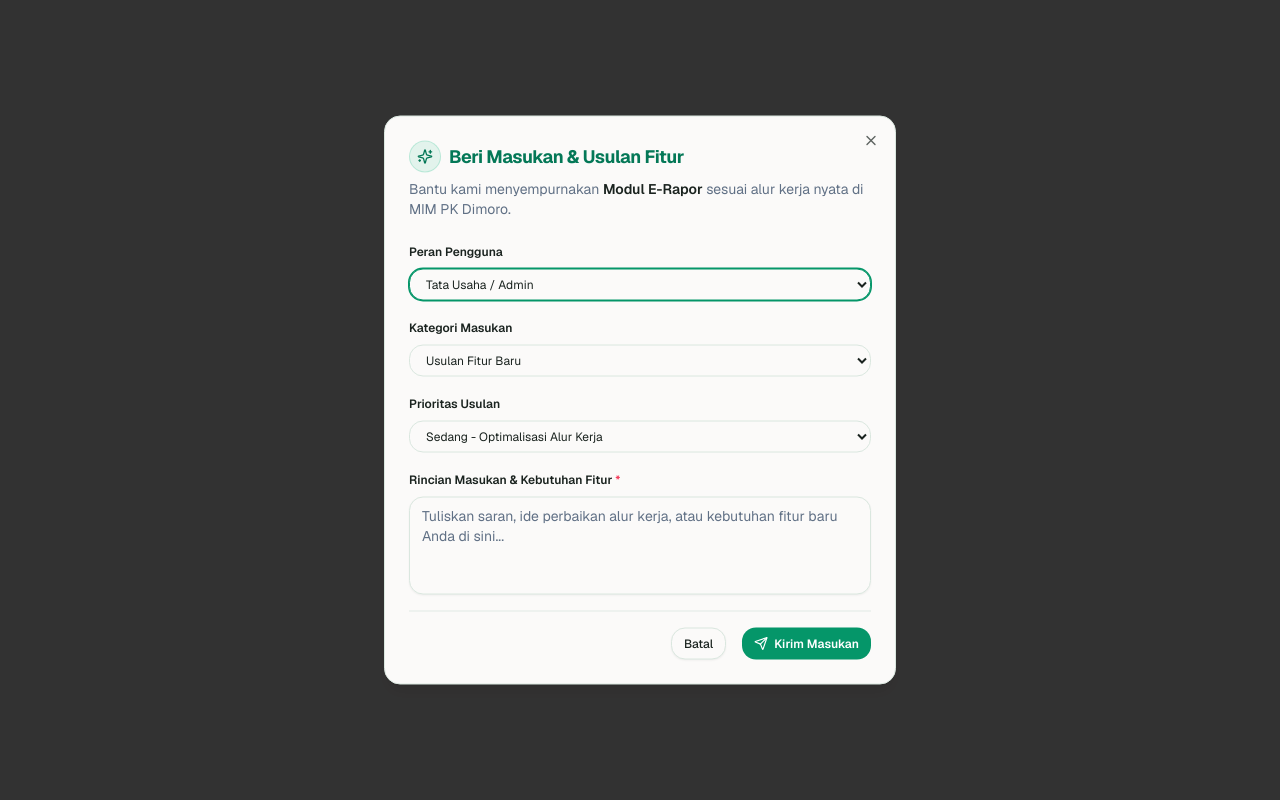
Test: QuickFeedbackDialog Component › submits feedback with role, priority, category, and notes correctly
Replace the text in the text box with placeholder "Tuliskan saran, ide perbaikan alur kerja" with "Mohon sediakan fitur cetak rapor massal dalam satu file ZIP.": (640, 546) [409, 496, 871, 594]
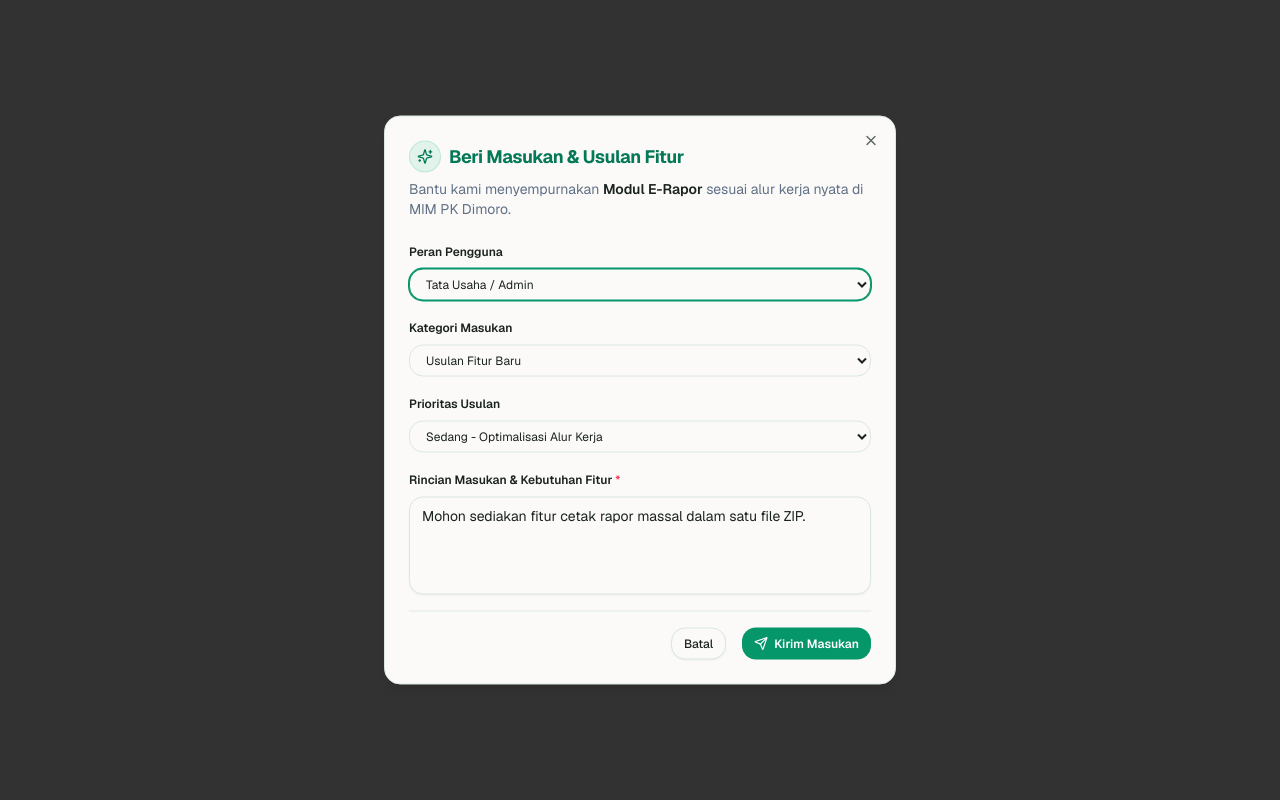
Note: Change role
Select "Guru / Wali Kelas" in the dropdown labelled "Peran Pengguna": (640, 284) [409, 268, 871, 300]
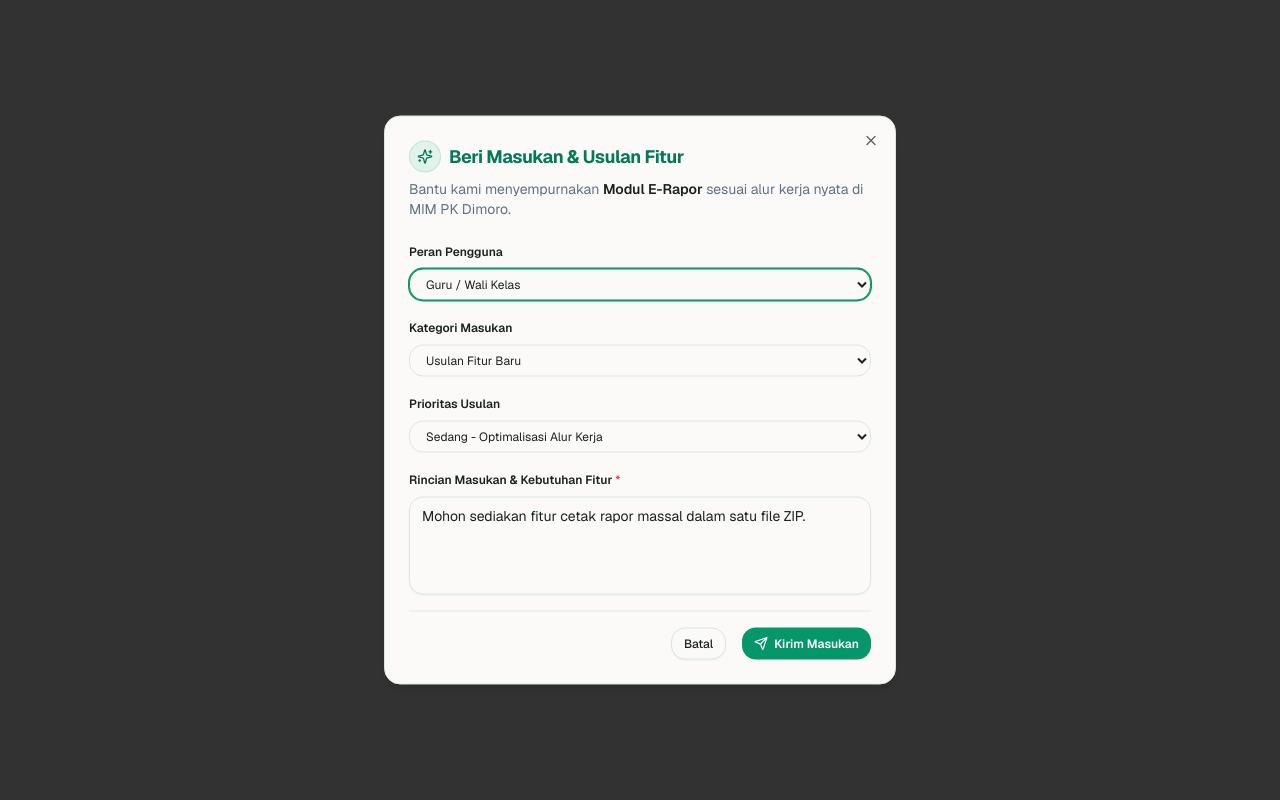
Note: Change priority
Select "Tinggi - Kebutuhan Utama" in the dropdown labelled "Prioritas Usulan": (640, 436) [409, 420, 871, 452]
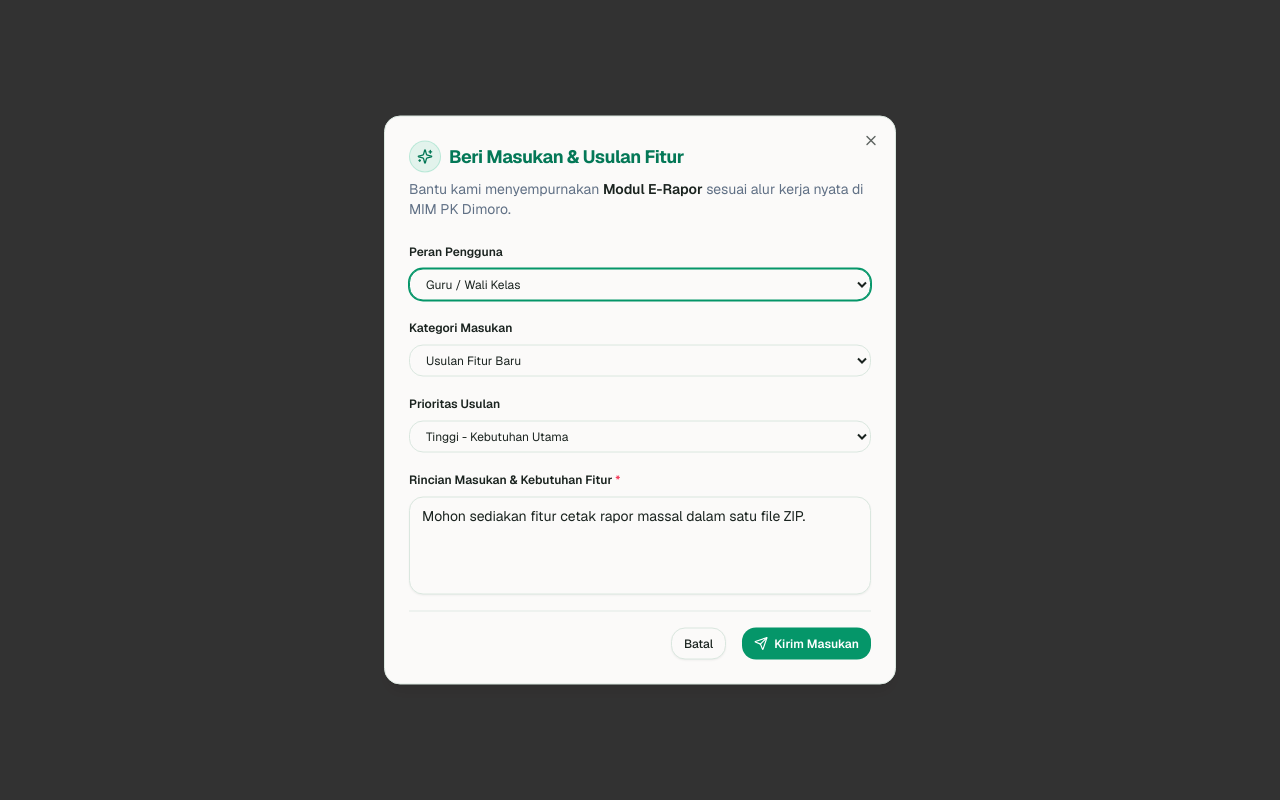
Note: Submit form
Click the button "Kirim Masukan": (807, 644) [742, 628, 871, 660]
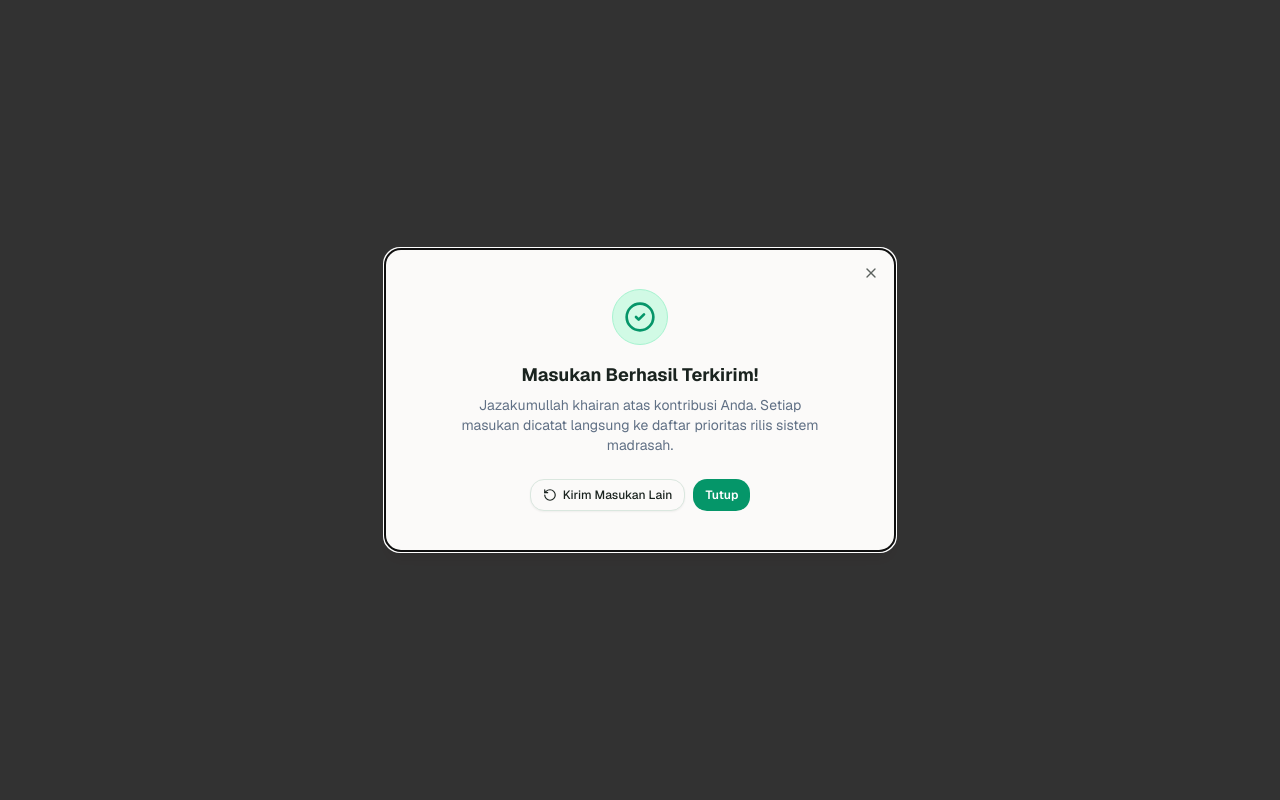
Expected: the heading "Masukan Berhasil Terkirim!" is shown, [522, 363, 758, 386]
